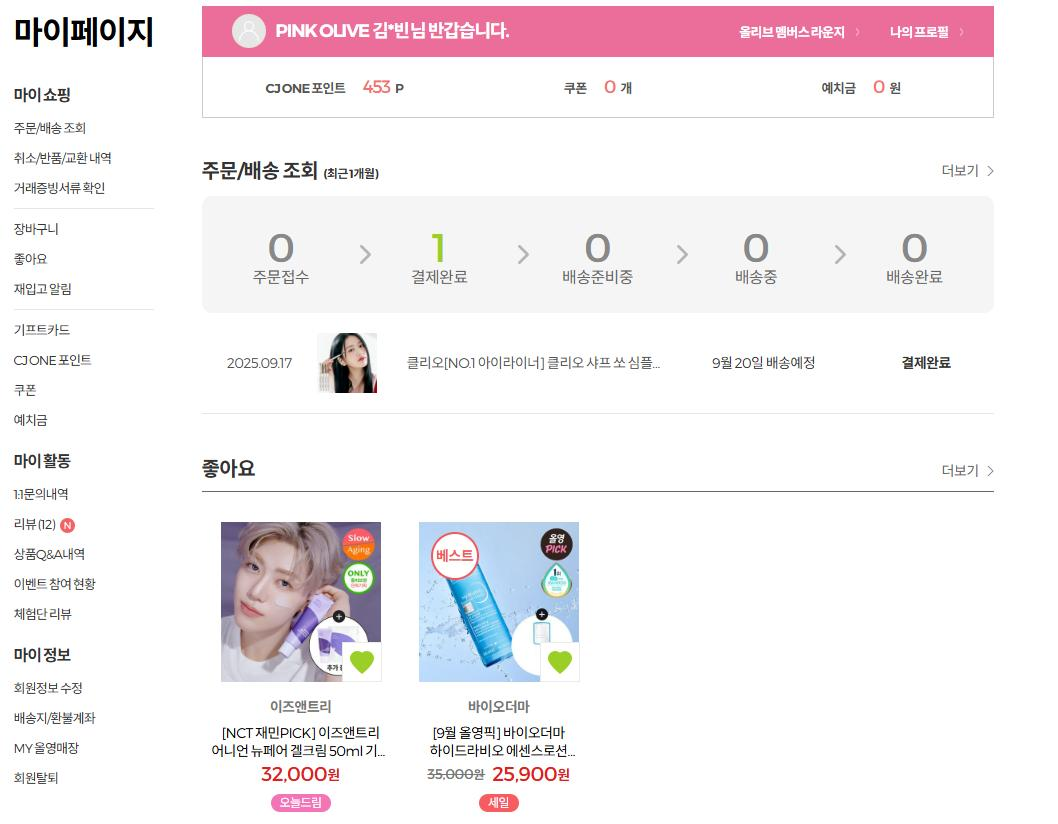button: (14, 149, 115, 168), (14, 180, 108, 200), (744, 24, 845, 41), (8, 514, 86, 536), (14, 481, 81, 505), (14, 575, 98, 594), (936, 166, 1009, 186), (11, 120, 90, 138), (14, 354, 96, 370), (894, 25, 969, 41), (19, 741, 88, 758), (19, 548, 85, 565), (14, 281, 78, 298), (14, 320, 69, 338), (11, 681, 84, 694), (16, 769, 70, 786), (11, 250, 59, 269), (13, 610, 69, 625), (15, 714, 103, 723), (10, 414, 51, 433), (8, 380, 44, 399), (935, 458, 986, 471), (14, 223, 64, 236)
